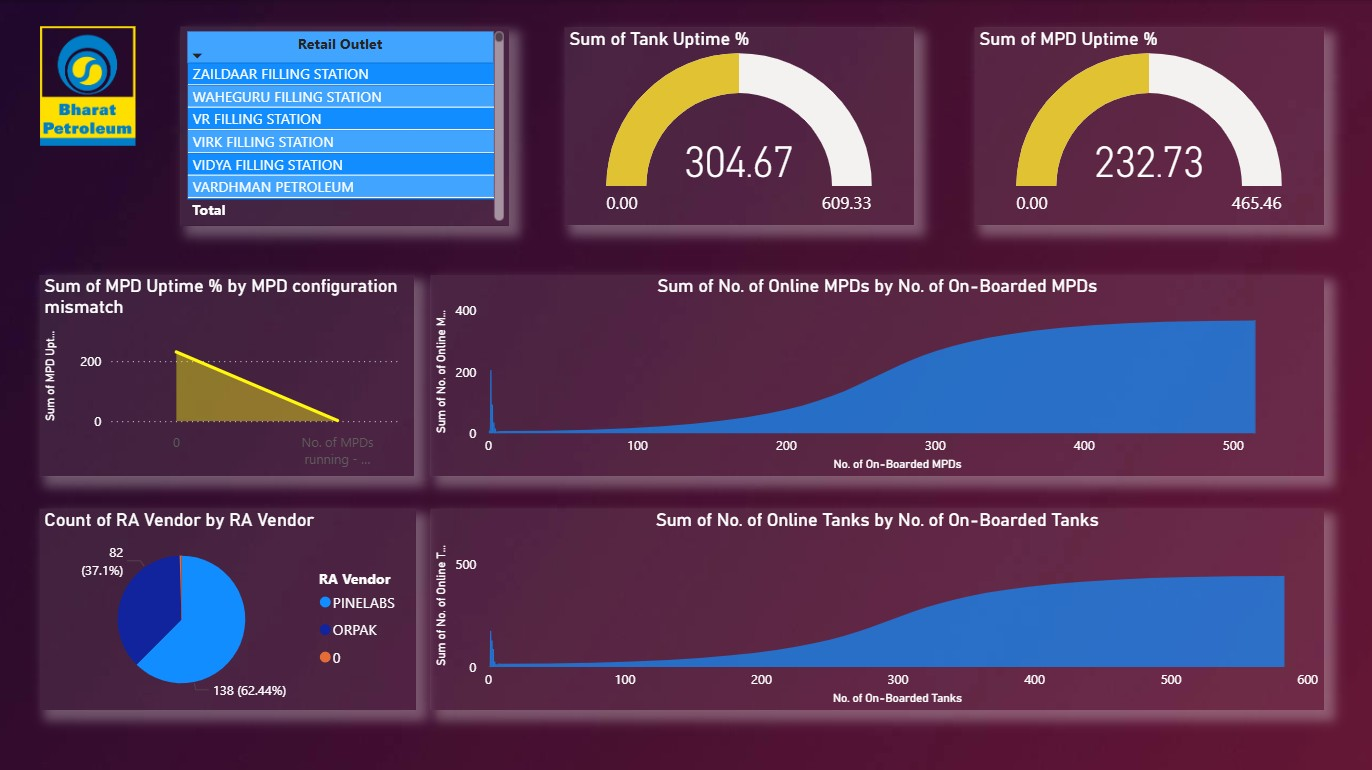

Layout of this report page (visuals, bound fields, positions):
{"tool":"powerbi","page":{"name":"Page 1","canvas":[1280,720],"ordinal":0},"visuals":[{"type":"image","box":[27.5,25,111.2,111.2],"z":0},{"type":"tableEx","fields":{"Values":["Export.Retail Outlet"]},"box":[170,24.3,305.7,185.7],"z":1000},{"type":"areaChart","fields":{"Category":["Export.MPD configuration mismatch "],"Y":["Sum(Export.MPD Uptime %)"]},"box":[38.6,255.7,348.6,187.1],"z":2000},{"type":"ribbonChart","fields":{"Category":["Export.No. of On-Boarded MPDs"],"Y":["Sum(Export.No. of Online MPDs)"]},"box":[402.9,255.7,831.4,187.1],"z":3000},{"type":"gauge","fields":{"Y":["Sum(Export.Tank Uptime %)"]},"box":[527.1,25.7,325.7,184.3],"z":4000},{"type":"ribbonChart","fields":{"Category":["Export.No. of On-Boarded Tanks"],"Y":["Sum(Export.No. of Online Tanks)"]},"box":[402.9,472.9,831.4,187.1],"z":5000},{"type":"gauge","fields":{"Y":["Sum(Export.MPD Uptime %)"]},"box":[908.6,25.7,325.7,184.3],"z":6000},{"type":"pieChart","fields":{"Category":["Export.RA Vendor"],"Y":["CountNonNull(Export.RA Vendor)"]},"box":[38.6,472.9,350,187.1],"z":7000}]}

Visuals, with their boxes in screenshot pixels (x1, y1, x2, y2), scaled from the page's 1280x720 canvas onto the 1372x770 screenshot:
image: BBox(29, 27, 149, 146)
tableEx - Export.Retail Outlet: BBox(182, 26, 510, 225)
areaChart - Export.MPD configuration mismatch  x Sum(Export.MPD Uptime %): BBox(41, 273, 415, 474)
ribbonChart - Export.No. of On-Boarded MPDs x Sum(Export.No. of Online MPDs): BBox(432, 273, 1323, 474)
gauge - Sum(Export.Tank Uptime %): BBox(565, 27, 914, 225)
ribbonChart - Export.No. of On-Boarded Tanks x Sum(Export.No. of Online Tanks): BBox(432, 506, 1323, 706)
gauge - Sum(Export.MPD Uptime %): BBox(974, 27, 1323, 225)
pieChart - Export.RA Vendor x CountNonNull(Export.RA Vendor): BBox(41, 506, 417, 706)
